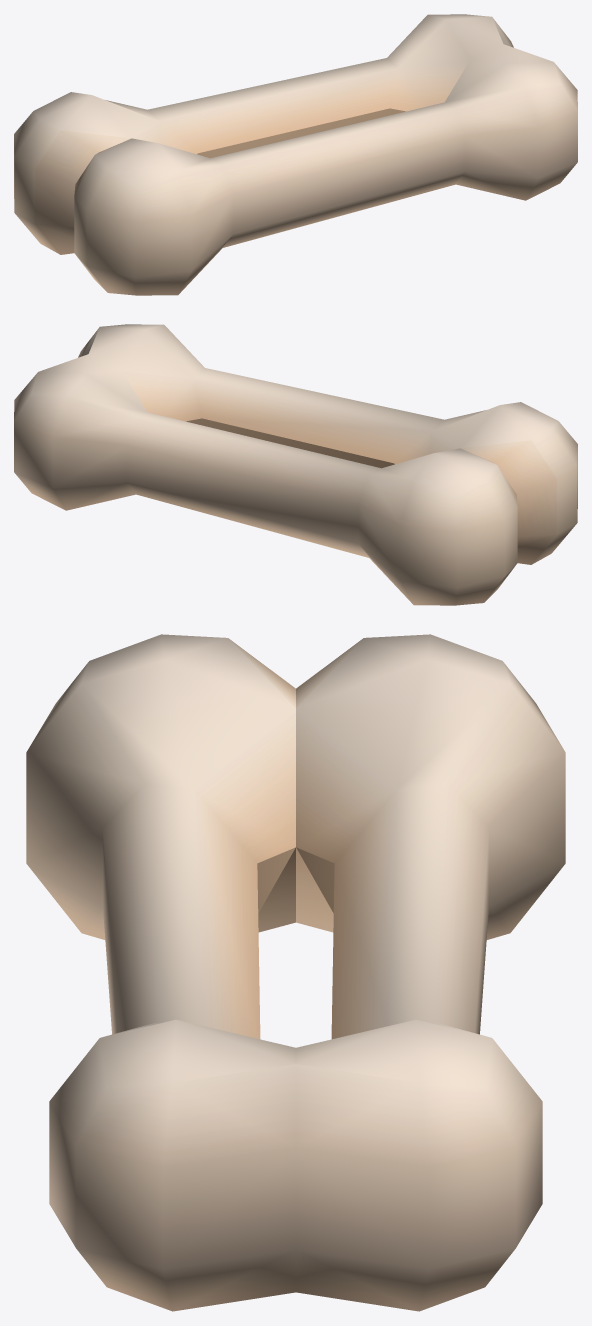
File: bone-b.glb
3 renders of one model, top to bottom at view 1: azimuth 30°, elevation 25°; view 2: azimuth 150°, elevation 25°; view 3: azimuth 270°, elevation 25°, orthographic. The views are drawn at different scales.
Visible parts, largest first — view 1: bone_B; view 2: bone_B; view 3: bone_B.
Boxes of the visible parts, box(x1,y1,x2,y2) form: bone_B: box(14, 14, 577, 295); bone_B: box(14, 324, 577, 605); bone_B: box(26, 634, 565, 1311).
Bounding box in the file's own units: 0.6063 × 0.1747 × 0.2867.
Materials: 1 (1 with a texture image).
